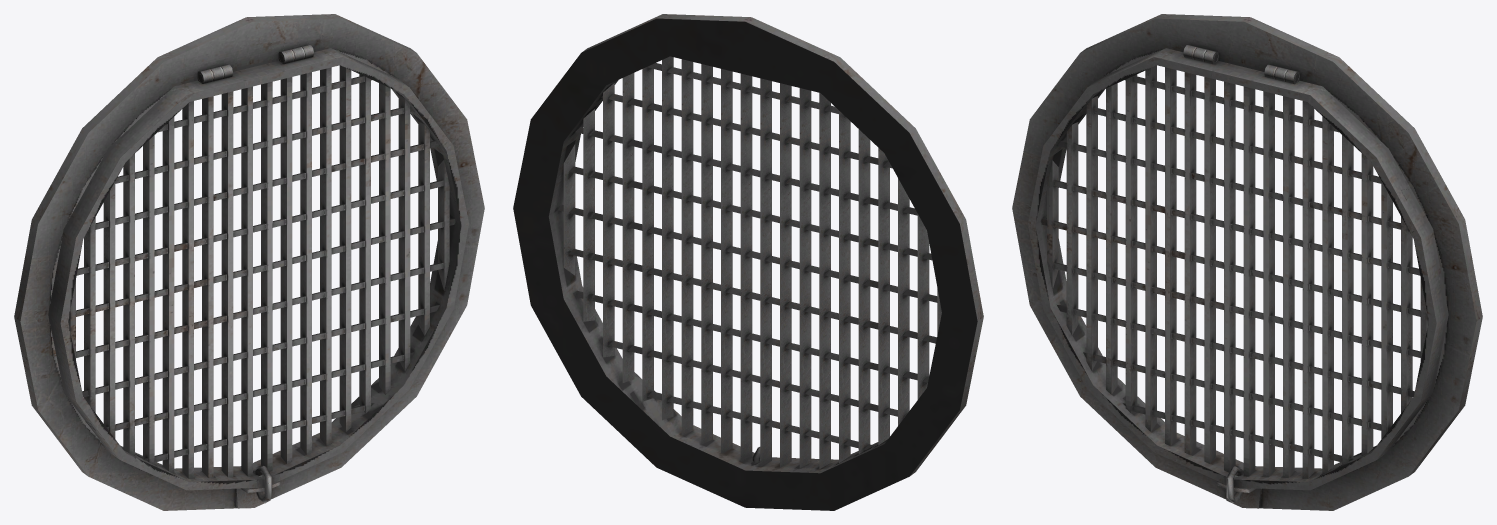
File: p_rus_vent_ext_round_LOD1.obj
3 views of the same model, side by side, from view 1: azimuth 30°, elevation 25°; view 2: azimuth 150°, elevation 25°; view 3: azimuth 330°, elevation 25° (orthographic).
Parts seen in each view (by area): view 1: mtl_p_rus_vent_ext_round; view 2: mtl_p_rus_vent_ext_round; view 3: mtl_p_rus_vent_ext_round.
Boxes of the visible parts, x1=… form: mtl_p_rus_vent_ext_round: x1=14, y1=14, x2=484, y2=510; mtl_p_rus_vent_ext_round: x1=513, y1=14, x2=983, y2=510; mtl_p_rus_vent_ext_round: x1=1012, y1=14, x2=1482, y2=510.
Bounding box in the file's own units: 162 × 162 × 13.9.
